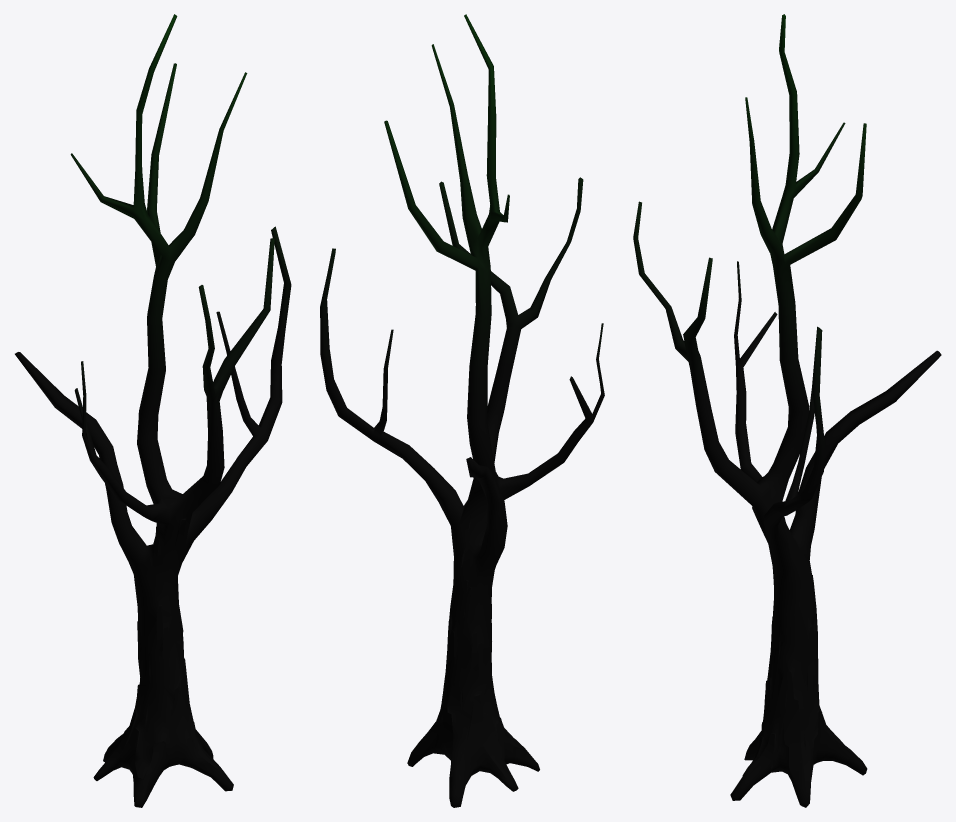
The model's file is TGV_Beech_Tree_Dry_01A.fbx.
3 renders of one model, left to right at view 1: azimuth 30°, elevation 25°; view 2: azimuth 150°, elevation 25°; view 3: azimuth 270°, elevation 25°, orthographic. The views are drawn at different scales.
Visible parts, largest first — view 1: TGV_Beech_Tree_Dry_01A_LOD0; view 2: TGV_Beech_Tree_Dry_01A_LOD0; view 3: TGV_Beech_Tree_Dry_01A_LOD0.
Boxes of the visible parts, x1=… form: TGV_Beech_Tree_Dry_01A_LOD0: x1=15, y1=14, x2=291, y2=807; TGV_Beech_Tree_Dry_01A_LOD0: x1=320, y1=14, x2=604, y2=807; TGV_Beech_Tree_Dry_01A_LOD0: x1=633, y1=14, x2=941, y2=807.
Bounding box in the file's own units: 699 × 2069 × 747.
